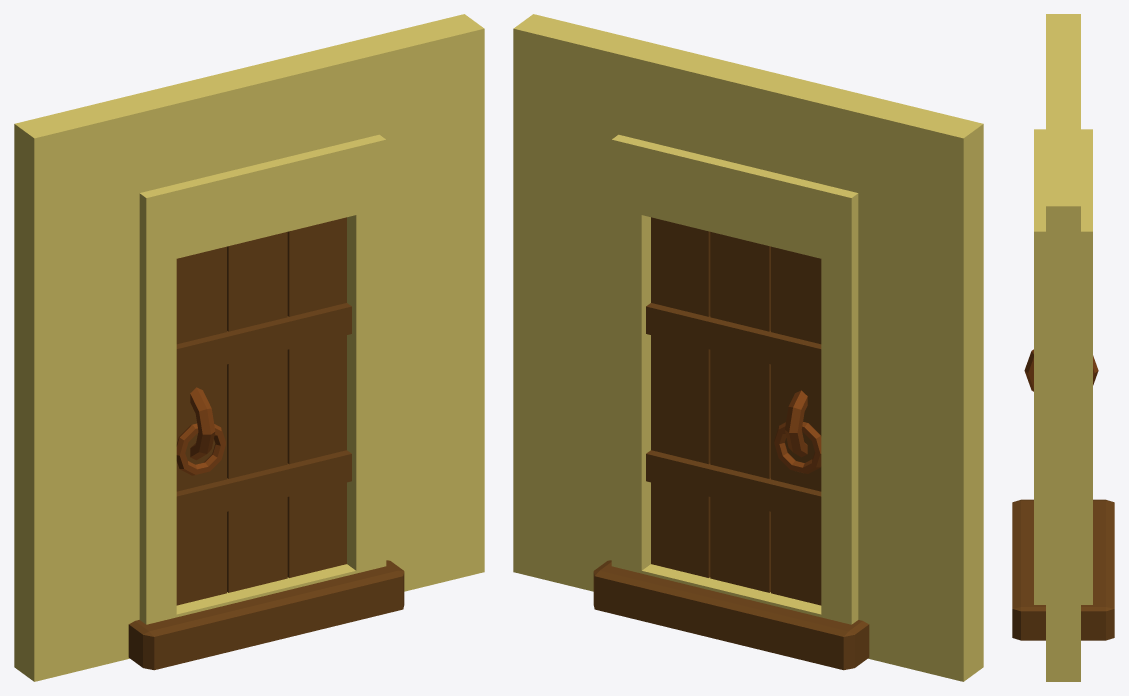
Rendered from House Door.glb.
3 renders of one model, left to right at view 1: azimuth 30°, elevation 25°; view 2: azimuth 150°, elevation 25°; view 3: azimuth 270°, elevation 25°, orthographic. The views are drawn at different scales.
Visible parts, largest first — view 1: Door_Cube.001; view 2: Door_Cube.001; view 3: Door_Cube.001.
Part boxes in pixels (left/top/right/bottom): Door_Cube.001: left=14, top=14, right=484, bottom=681; Door_Cube.001: left=513, top=14, right=983, bottom=681; Door_Cube.001: left=1012, top=14, right=1114, bottom=681.
Size of the model in its own units: 2.6 by 3 by 0.5859.
